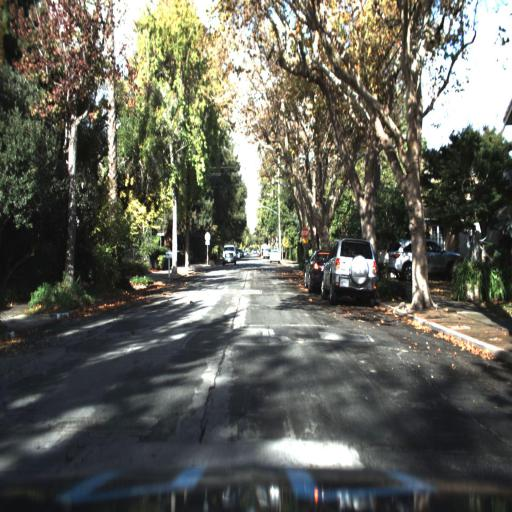car: (318, 236, 378, 306), (384, 237, 462, 282), (302, 248, 323, 300), (221, 243, 237, 268), (268, 245, 283, 268)
